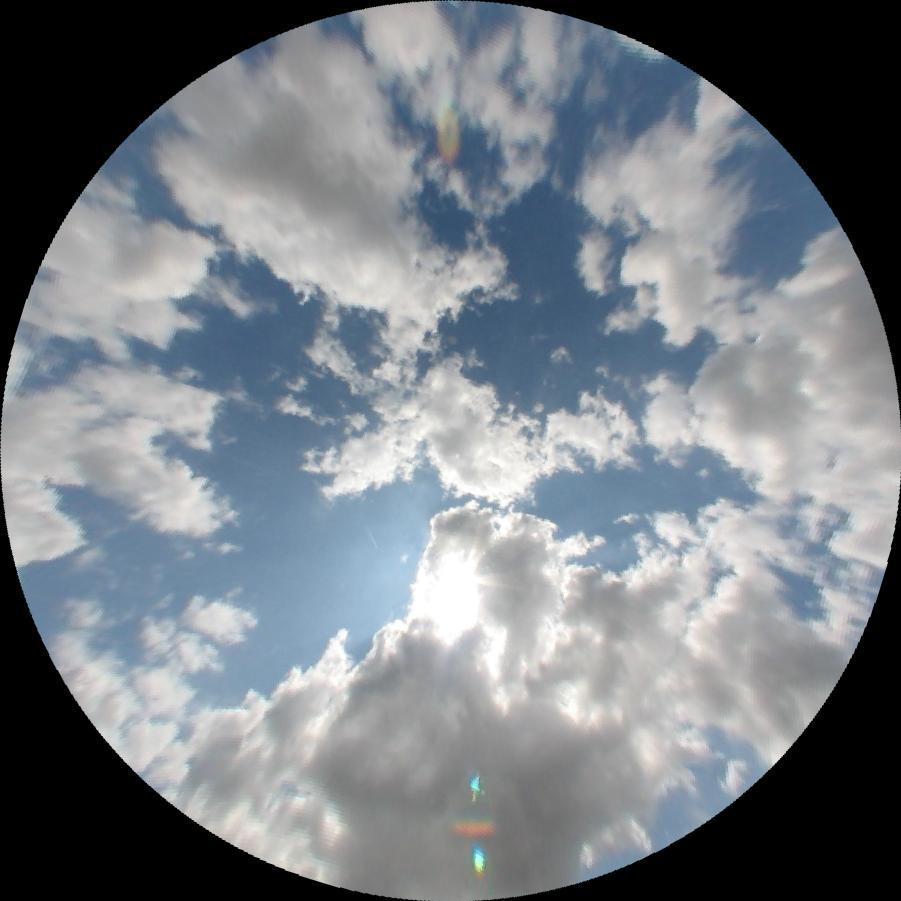contrail young: (362, 521, 378, 549)
